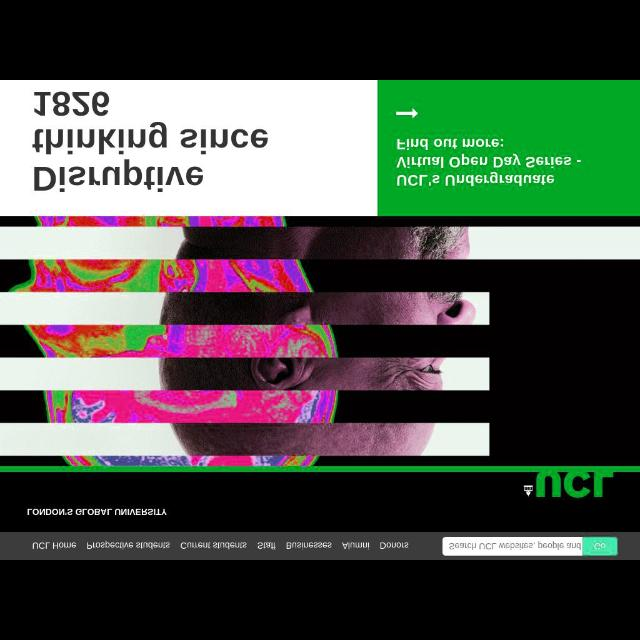icon: (397, 104, 419, 120)
image: (1, 216, 639, 472), (520, 468, 618, 500)
input: (442, 538, 584, 556)
text: (33, 88, 269, 195), (395, 136, 585, 188), (24, 506, 168, 518), (447, 542, 581, 552), (85, 538, 172, 550), (181, 540, 247, 552), (30, 538, 78, 552), (287, 540, 333, 550), (378, 538, 410, 552), (342, 538, 370, 548), (258, 540, 276, 552), (593, 540, 605, 552)
textbutton: (584, 536, 620, 558)
toolbar: (4, 534, 638, 558)
